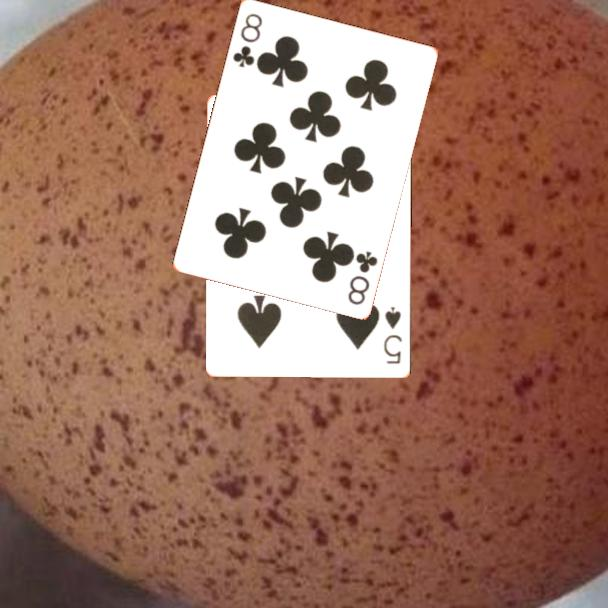c08: (229, 9, 265, 70), (344, 247, 380, 307)
s05: (381, 304, 405, 367)
